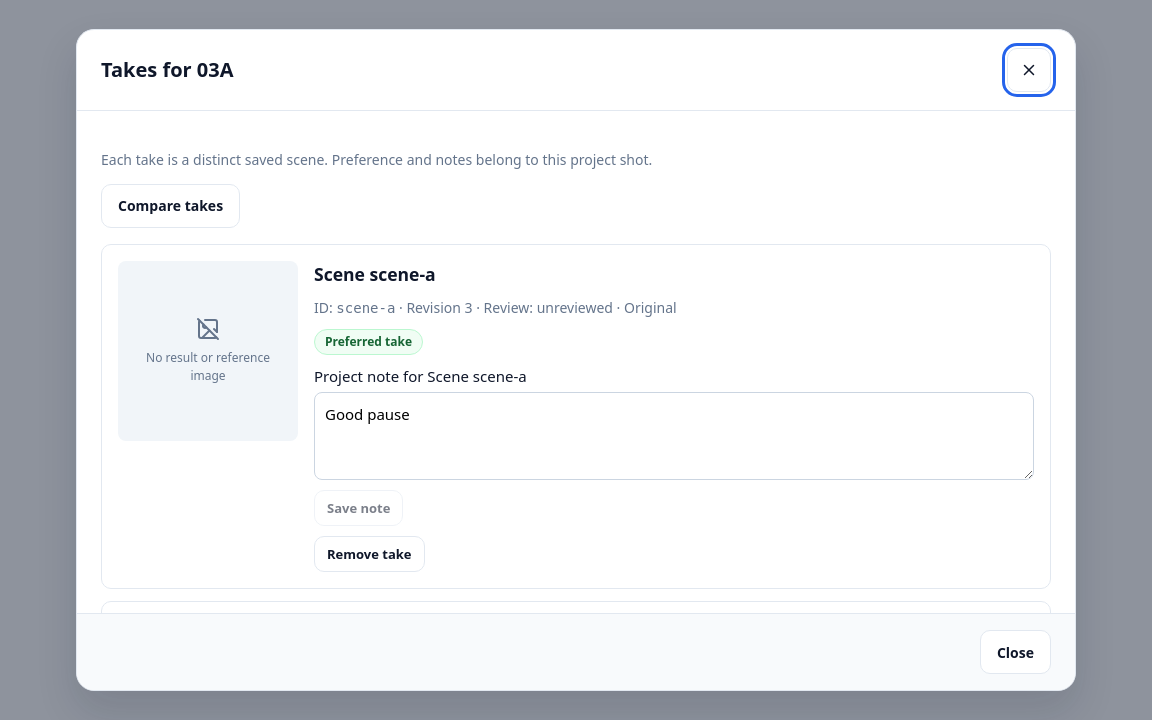
it: compares exact effective text in two panes, then returns to the saved notes
Step 1. Click the button "Compare takes" → (171, 206), box [101,184,240,228]
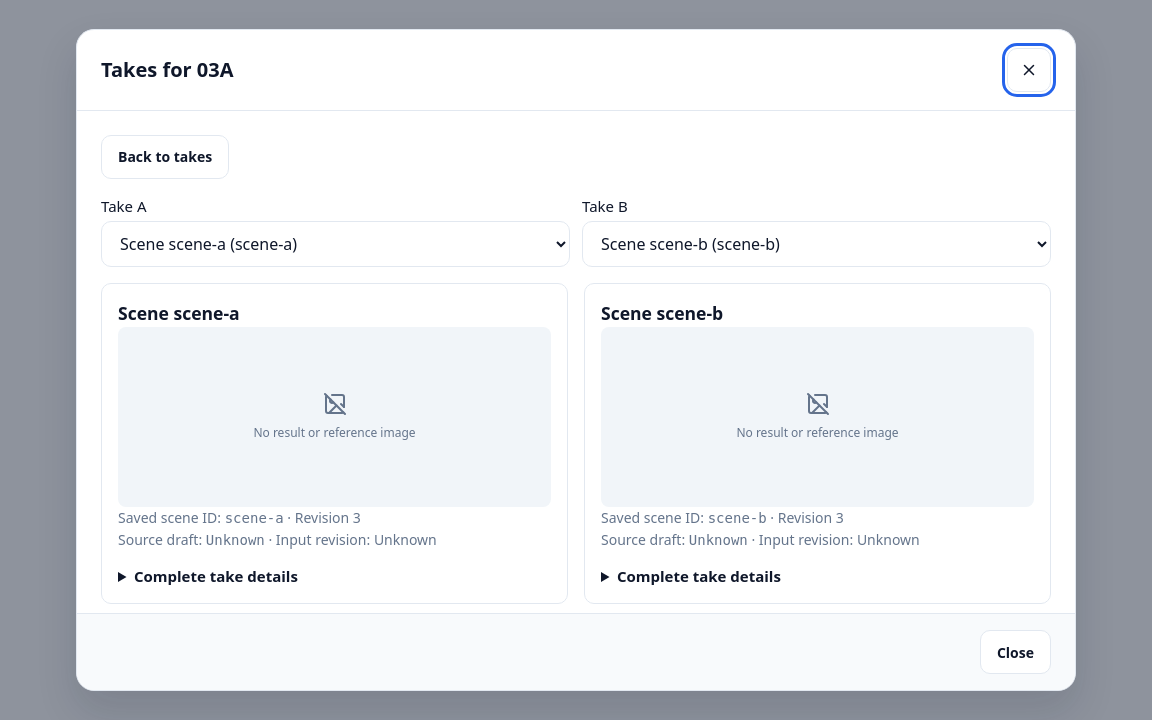
expect the number of elements named "Take A" is 2: met, box [101,283,568,604]; [584,283,1051,604]
Step 2. Click the button "Back to takes" → (165, 157), box [101,135,229,179]
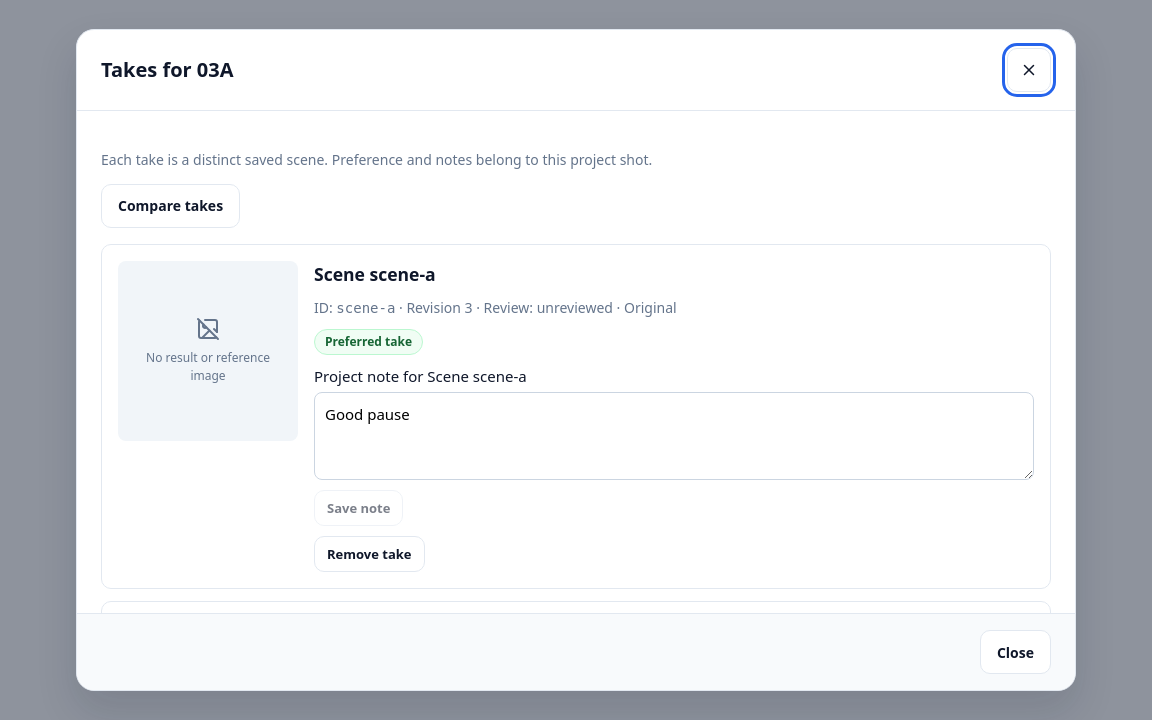
expect the text box labelled "Project note for Scene scene-a" holds "Good pause": met, box [314,392,1034,480]
